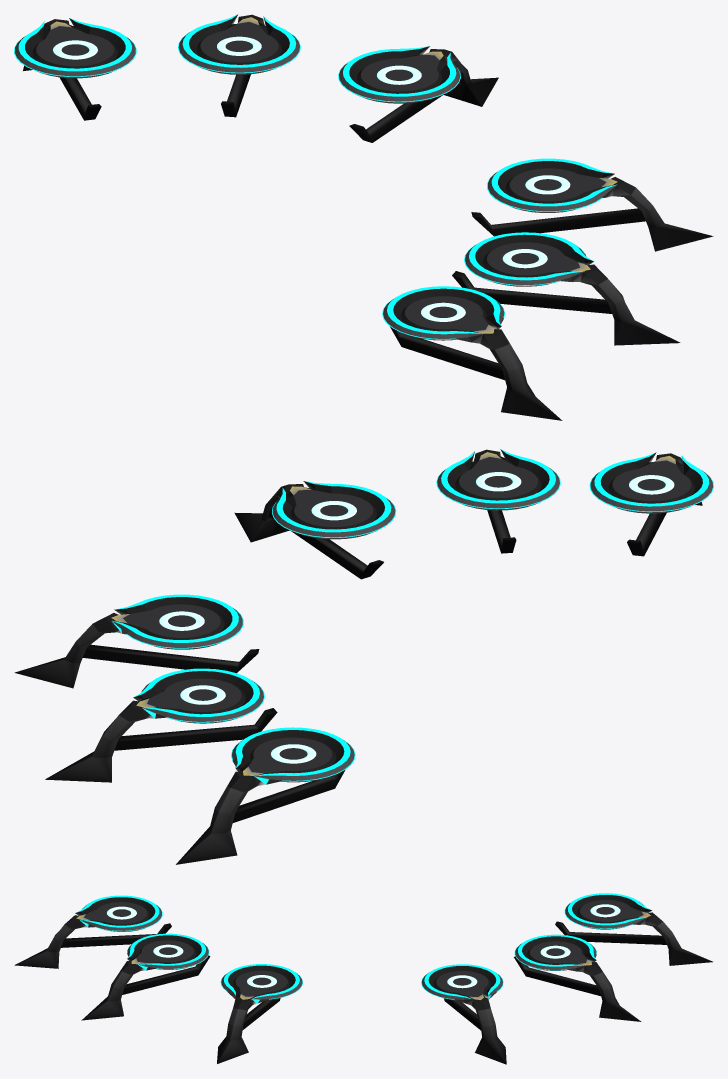
File: SpawnBody.fbx
3 views of the same model, one above another, from view 1: azimuth 30°, elevation 25°; view 2: azimuth 150°, elevation 25°; view 3: azimuth 270°, elevation 25° (orthographic). The views are drawn at different scales.
Parts seen in each view (by area): view 1: Body.004, Body, Body.005, Body.001, Body.003, Body.002, Outer Ring, Outer Ring.001, Outer Ring.004, Outer Ring.002, Outer Ring.003, Outer Ring.005; view 2: Body.002, Body.001, Body.003, Body, Body.005, Body.004, Outer Ring.002, Outer Ring.001, Outer Ring, Outer Ring.004, Outer Ring.005, Outer Ring.003; view 3: Body.004, Body.003, Body.002, Body.005, Body.001, Body, Outer Ring.005, Outer Ring.004, Outer Ring.003, Outer Ring.002, Outer Ring, Outer Ring.001.
Boxes of the visible parts, x1,y1,x2,y2 form: Body.004: (452,234,680,345); Body: (471,161,713,251); Body.005: (383,288,562,420); Body.001: (339,46,498,142); Body.003: (14,18,135,120); Body.002: (178,14,299,117); Outer Ring: (491,158,616,206); Outer Ring.001: (343,46,456,96); Outer Ring.004: (469,232,592,280); Outer Ring.002: (182,14,296,67); Outer Ring.003: (18,18,131,71); Outer Ring.005: (387,286,501,334); Body.002: (45,671,277,782); Body.001: (14,597,259,688); Body.003: (176,730,354,864); Body: (234,481,395,579); Body.005: (590,452,712,556); Body.004: (437,449,559,553); Outer Ring.002: (134,668,259,716); Outer Ring.001: (112,594,238,642); Outer Ring: (276,481,391,532); Outer Ring.004: (441,449,555,503); Outer Ring.005: (594,452,709,506); Outer Ring.003: (235,727,350,776); Body.004: (81,935,210,1020); Body.003: (555,895,712,965); Body.002: (514,936,641,1021); Body.005: (14,897,171,968); Body.001: (421,966,506,1064); Body: (217,965,302,1063); Outer Ring.005: (76,895,159,927); Outer Ring.004: (127,933,205,965); Outer Ring.003: (567,893,650,925); Outer Ring.002: (518,934,596,966); Outer Ring: (223,964,299,998); Outer Ring.001: (424,964,500,998).
Bounding box in the file's own units: 733 × 111 × 1646.
